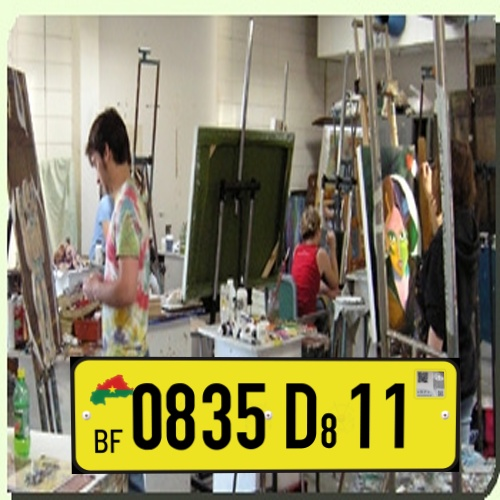plate: (58, 342, 472, 484)
